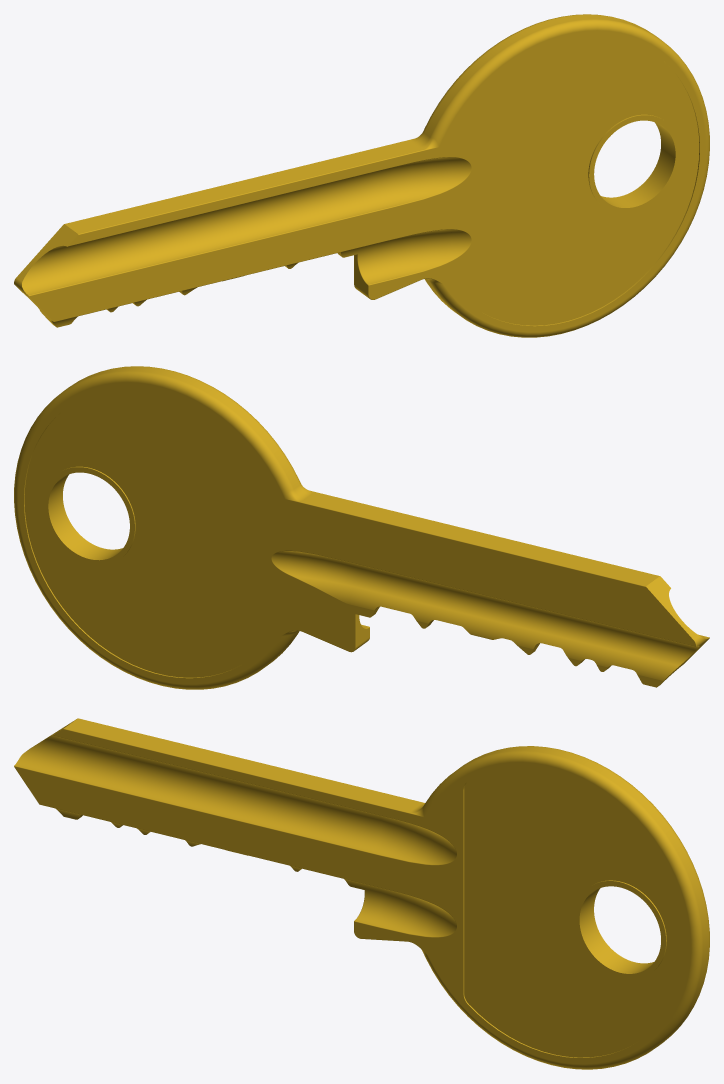
File: key.fbx
3 renders of one model, top to bottom at view 1: azimuth 30°, elevation 25°; view 2: azimuth 150°, elevation 25°; view 3: azimuth 330°, elevation 25°, orthographic.
Parts seen in each view (by area): view 1: Part 1; view 2: Part 1; view 3: Part 1.
Boxes of the visible parts, left/top/right/bottom form: Part 1: left=14, top=14, right=709, bottom=337; Part 1: left=14, top=366, right=709, bottom=689; Part 1: left=14, top=718, right=709, bottom=1069.
Size of the model in its own units: 0.0546 by 0.0236 by 0.002.
